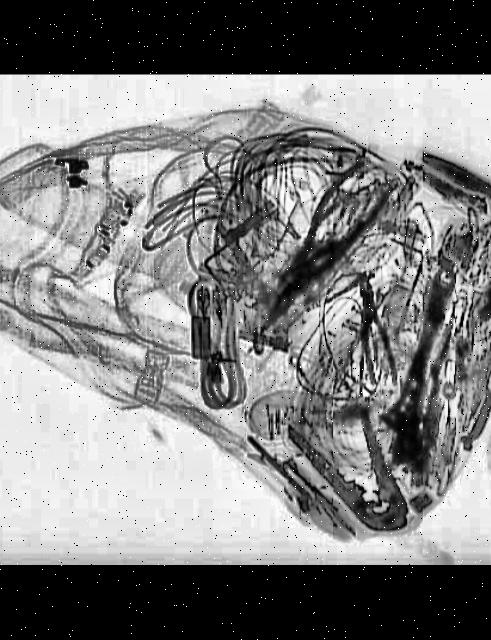Pliers: (232, 158, 400, 348), (280, 396, 431, 550), (344, 284, 398, 389)
Wrench: (366, 262, 470, 470)
